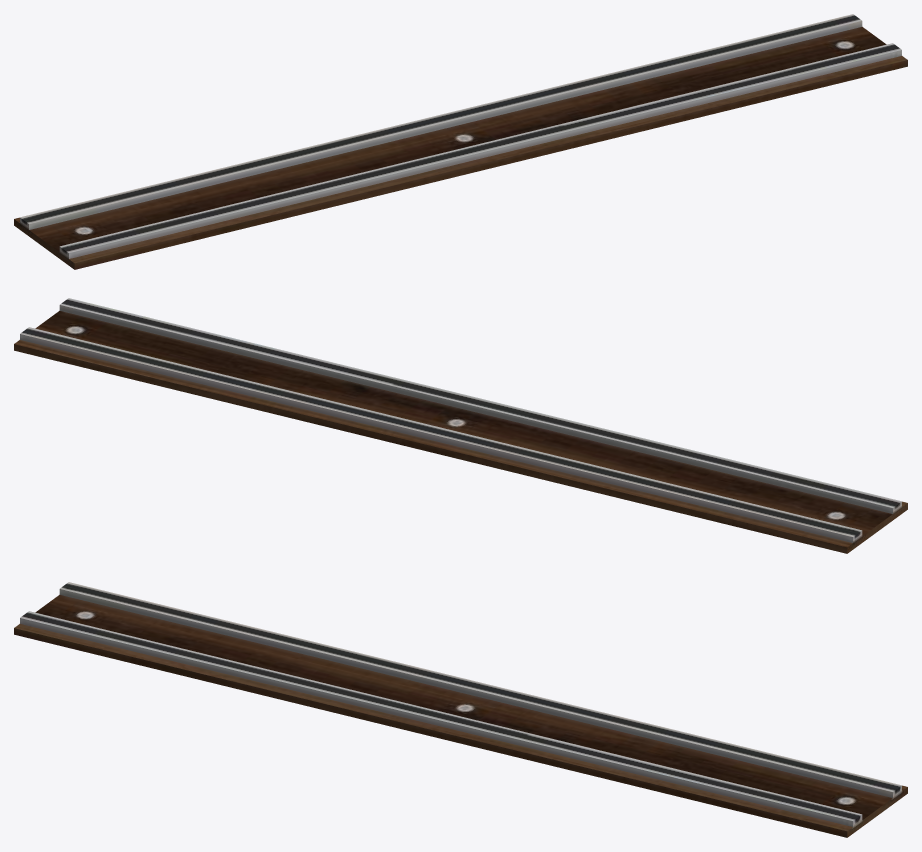
The model's file is knife_rail.glb.
3 views of the same model, one above another, from view 1: azimuth 30°, elevation 25°; view 2: azimuth 150°, elevation 25°; view 3: azimuth 330°, elevation 25° (orthographic).
Parts seen in each view (by area): view 1: Knife_WallMount_A; view 2: Knife_WallMount_A; view 3: Knife_WallMount_A.
Boxes of the visible parts, left/top/right/bottom form: Knife_WallMount_A: left=14, top=14, right=907, bottom=269; Knife_WallMount_A: left=14, top=298, right=907, bottom=553; Knife_WallMount_A: left=14, top=582, right=907, bottom=837.
Bounding box in the file's own units: 0.6025 × 0.0086 × 0.076.
1 material, 1 textured.
